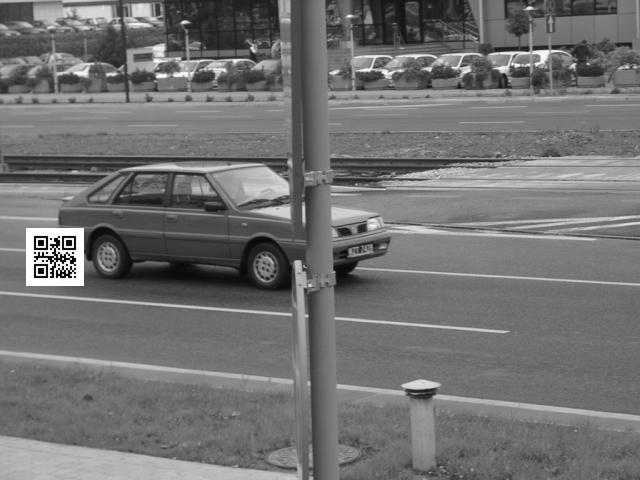qr_code: (25, 230, 84, 285)
